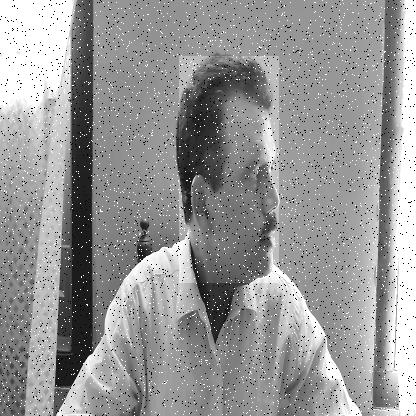Distracted: (179, 56, 279, 283)
